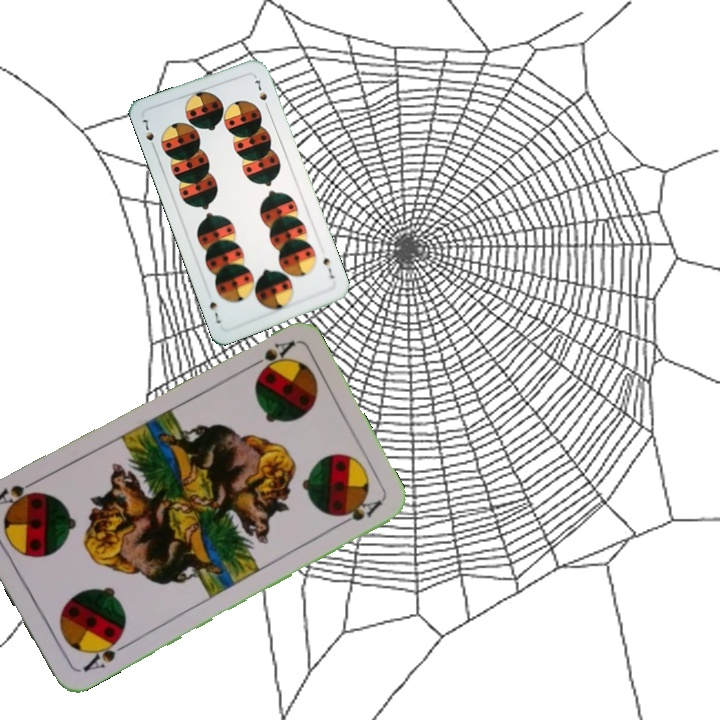S7: (138, 115, 158, 153), (319, 251, 337, 281)
SA: (78, 631, 131, 675), (242, 336, 297, 376)
